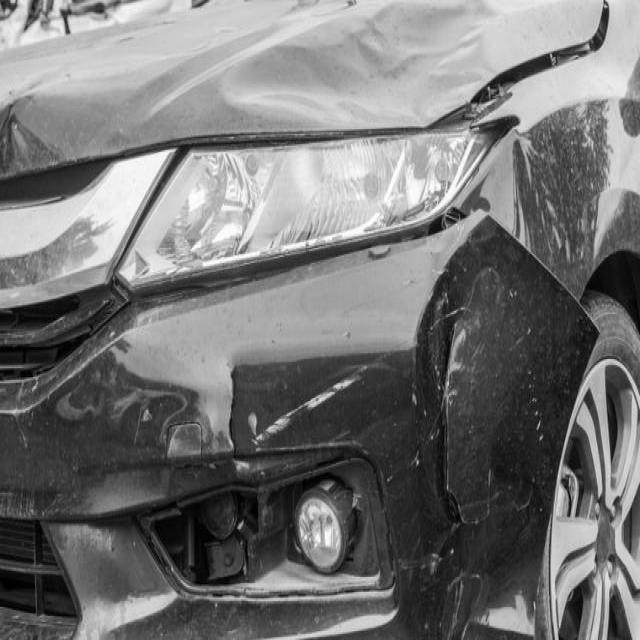Bonnet: (0, 0, 633, 175)
Bumper: (167, 212, 605, 634)
Scratch: (255, 367, 367, 444), (0, 490, 34, 518), (429, 307, 466, 332), (399, 553, 440, 575), (16, 421, 27, 449), (248, 412, 257, 437), (471, 343, 484, 360), (409, 451, 419, 468), (515, 336, 525, 347), (411, 391, 417, 405), (536, 419, 542, 431)
